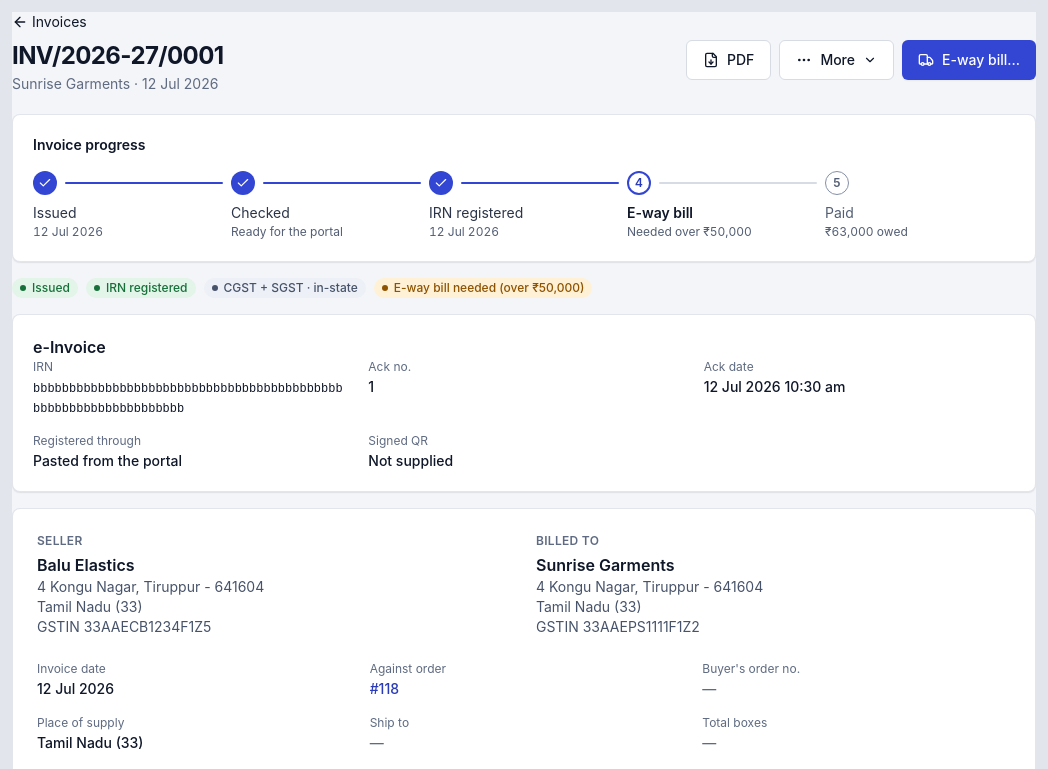
Test: the invoice leads with its next step › then the e-way bill, when the goods are worth more than ₹50,000
Expected: the button "E-way bill…" is shown, [902, 40, 1036, 80]
// Not offered twice.
Click the button "More" at (837, 60), box [779, 40, 894, 80]
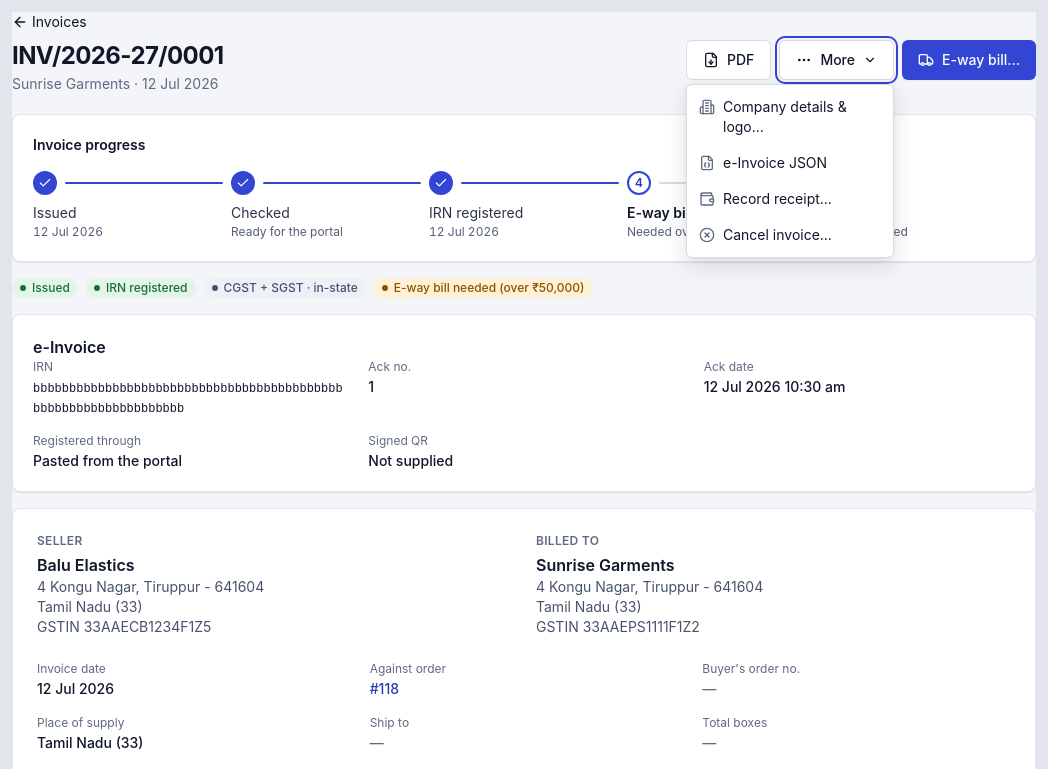
Expected: the menu item "Record receipt…" is shown, [687, 181, 893, 217]
